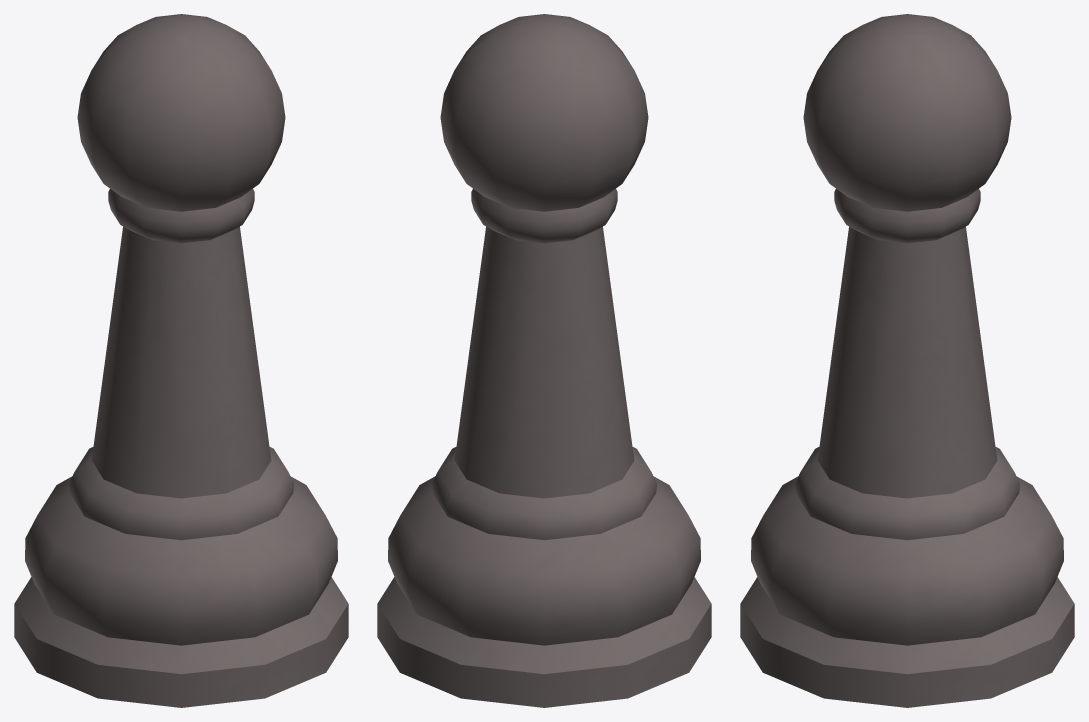
Rendered from Chess_Black_pawn.fbx.
3 views of the same model, side by side, from view 1: azimuth 30°, elevation 25°; view 2: azimuth 150°, elevation 25°; view 3: azimuth 270°, elevation 25° (orthographic).
Parts seen in each view (by area): view 1: Chess_pawn.003; view 2: Chess_pawn.003; view 3: Chess_pawn.003.
Part boxes in pixels (box(x1,y1,x2,y2)): Chess_pawn.003: box(14, 14, 348, 707); Chess_pawn.003: box(377, 14, 711, 707); Chess_pawn.003: box(740, 14, 1074, 707).
Size of the model in its own units: 22.17 by 44.95 by 22.17.
